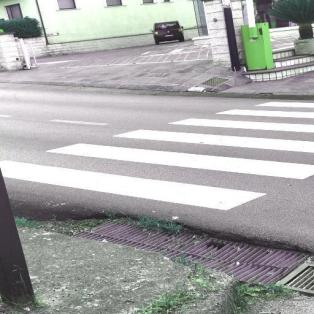Paso de Cebra: (41, 127, 314, 185)
